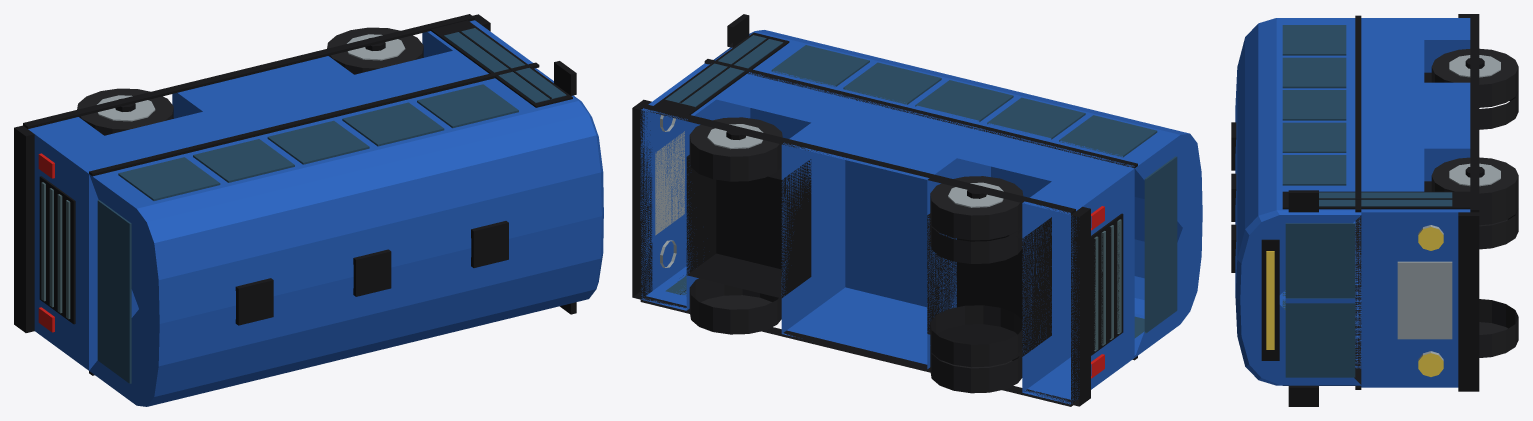
3 views of the same model, side by side, from view 1: azimuth 30°, elevation 25°; view 2: azimuth 150°, elevation 25°; view 3: azimuth 270°, elevation 25° (orthographic). The views are drawn at different scales.
Parts seen in each view (by area): view 1: default_upper, default_lower_back, default_lower_mid, default_rear_window, default_bumper_rear, default_side1_-3.80_0.95_black, default_lower_arch_f, default_lower_arch_r, default_side1_-3.80_2.90_black, default_rear1, default_front1, default_engine_grille (+16 smaller); view 2: default_lower_mid, default_upper, default_arch_liner2.15, default_lower_back, default_arch_liner-2.1, default_lower_arch_f, default_lower_front, default_lower_arch_r, default_rear_window, default_front1, default_rear1, default_front-1 (+20 smaller); view 3: default_upper, default_lower_front, default_windscreen, default_lower_mid, default_grille, default_bumper, default_front1, default_rear1, default_lower_back, default_lower_arch_f, default_lower_arch_r, default_side1_-2.18_3.15_glass_dark (+21 smaller).
Boxes of the visible parts, bbox=[...] form: default_upper: bbox=[89, 68, 603, 406]; default_lower_back: bbox=[28, 117, 138, 370]; default_lower_mid: bbox=[172, 56, 386, 135]; default_rear_window: bbox=[97, 200, 131, 383]; default_bumper_rear: bbox=[14, 125, 34, 332]; default_side1_-3.80_0.95_black: bbox=[23, 14, 474, 128]; default_lower_arch_f: bbox=[354, 51, 485, 98]; default_lower_arch_r: bbox=[104, 112, 235, 159]; default_side1_-3.80_2.90_black: bbox=[89, 62, 539, 176]; default_rear1: bbox=[77, 88, 173, 135]; default_front1: bbox=[327, 27, 423, 74]; default_engine_grille: bbox=[39, 176, 75, 324]; default_lower_mid: bbox=[781, 98, 990, 368]; default_upper: bbox=[709, 30, 1202, 357]; default_arch_liner2.15: bbox=[686, 155, 811, 298]; default_lower_back: bbox=[1022, 156, 1134, 404]; default_arch_liner-2.1: bbox=[927, 213, 1051, 356]; default_lower_arch_f: bbox=[716, 74, 845, 311]; default_lower_front: bbox=[640, 63, 749, 310]; default_lower_arch_r: bbox=[957, 133, 1085, 370]; default_rear_window: bbox=[1144, 156, 1177, 333]; default_front1: bbox=[689, 117, 782, 181]; default_rear1: bbox=[930, 176, 1023, 240]; default_front-1: bbox=[689, 278, 781, 334]; default_upper: bbox=[1235, 18, 1361, 385]; default_lower_front: bbox=[1361, 209, 1470, 387]; default_windscreen: bbox=[1285, 223, 1355, 377]; default_lower_mid: bbox=[1361, 82, 1470, 181]; default_grille: bbox=[1397, 261, 1452, 339]; default_bumper: bbox=[1458, 212, 1479, 391]; default_front1: bbox=[1431, 157, 1518, 216]; default_rear1: bbox=[1431, 48, 1518, 107]; default_lower_back: bbox=[1361, 18, 1470, 72]; default_lower_arch_f: bbox=[1361, 148, 1424, 191]; default_lower_arch_r: bbox=[1361, 40, 1424, 82]; default_side1_-2.18_3.15_glass_dark: bbox=[1282, 57, 1346, 88].
Bounding box in the file's own units: 7.9 × 3.9 × 4.75.
